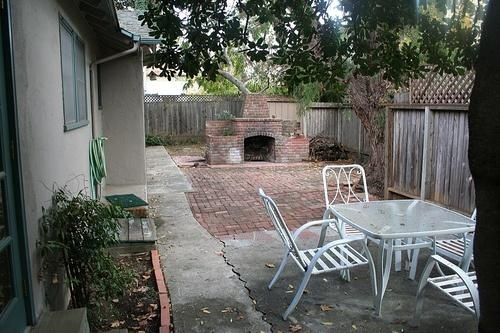chair: (257, 189, 381, 320), (410, 208, 500, 304), (415, 249, 500, 333), (320, 162, 375, 275)
